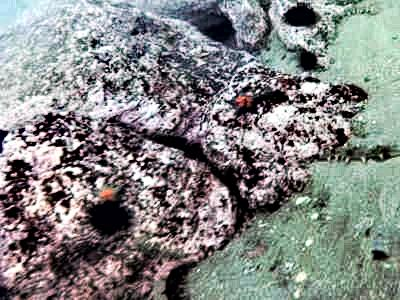urchin: (81, 200, 135, 238), (282, 4, 318, 26), (299, 50, 317, 70)
